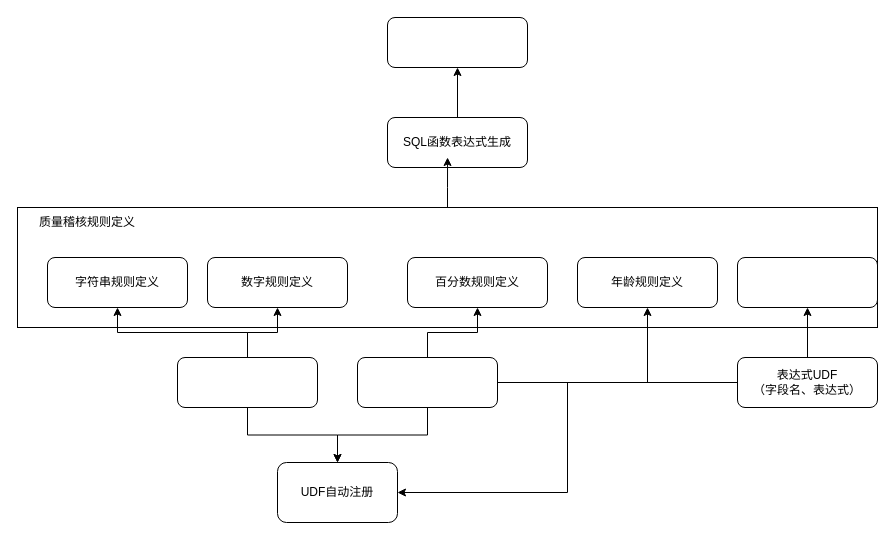
This 895x540 diagram has some shape labels left out. The shapes that lost their labels are listed below. From the top down, each one's centre as x and y in pixels, then its label:
point 457,42: SQL执行
point 807,282: 表达式规则1定义
point 247,382: 正则表达式UDF （字段名、正则表达式）
point 427,382: 数据范围UDF （字段名、数据的开始和结束区间）
